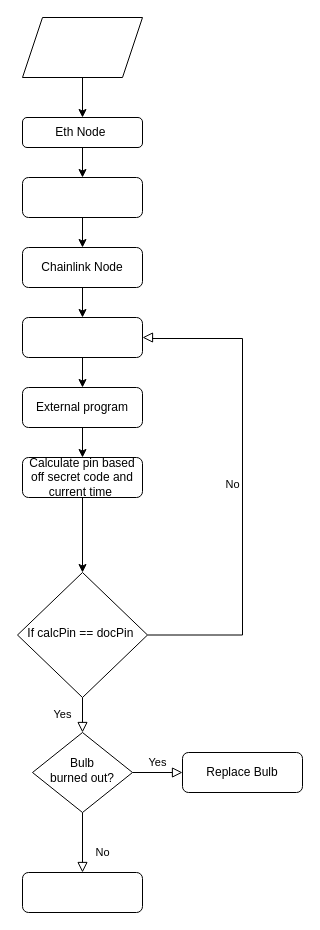
The diagram is 320 pixels wide and 930 high, and some of its shapes have lost their labels. Each missing label, with the box of its shape:
2FA Request - with Doctor 6 number pin: (22, 176, 142, 218)
Remote Initiator: (22, 316, 142, 358)
Repair Lamp: (22, 872, 142, 912)
Start: (22, 16, 142, 78)
